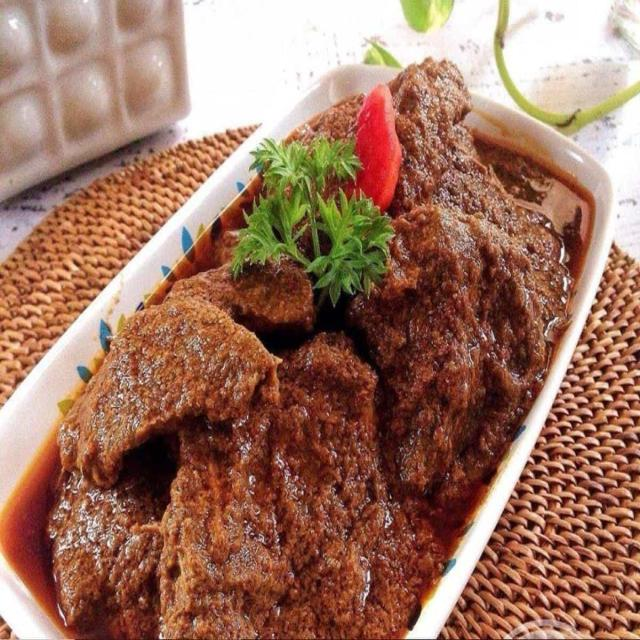Wet Waste: (48, 52, 575, 640)
